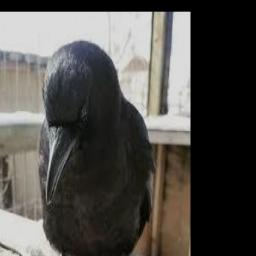Crow: (38, 40, 156, 256)
